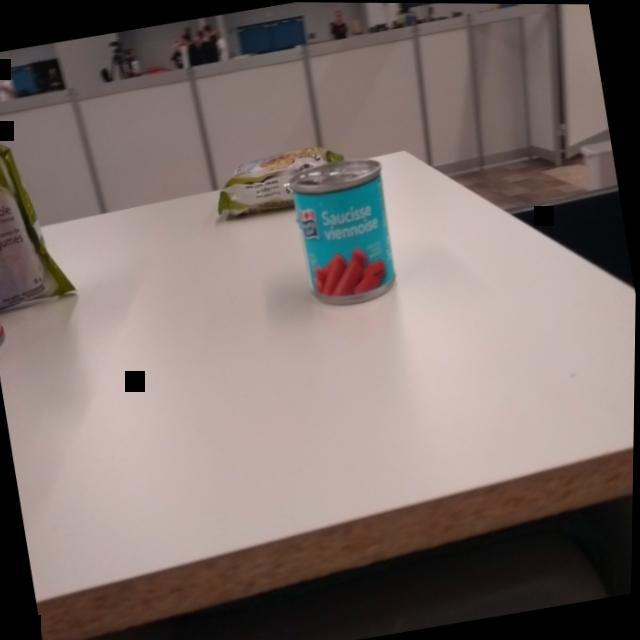sausages: (283, 146, 414, 319)
